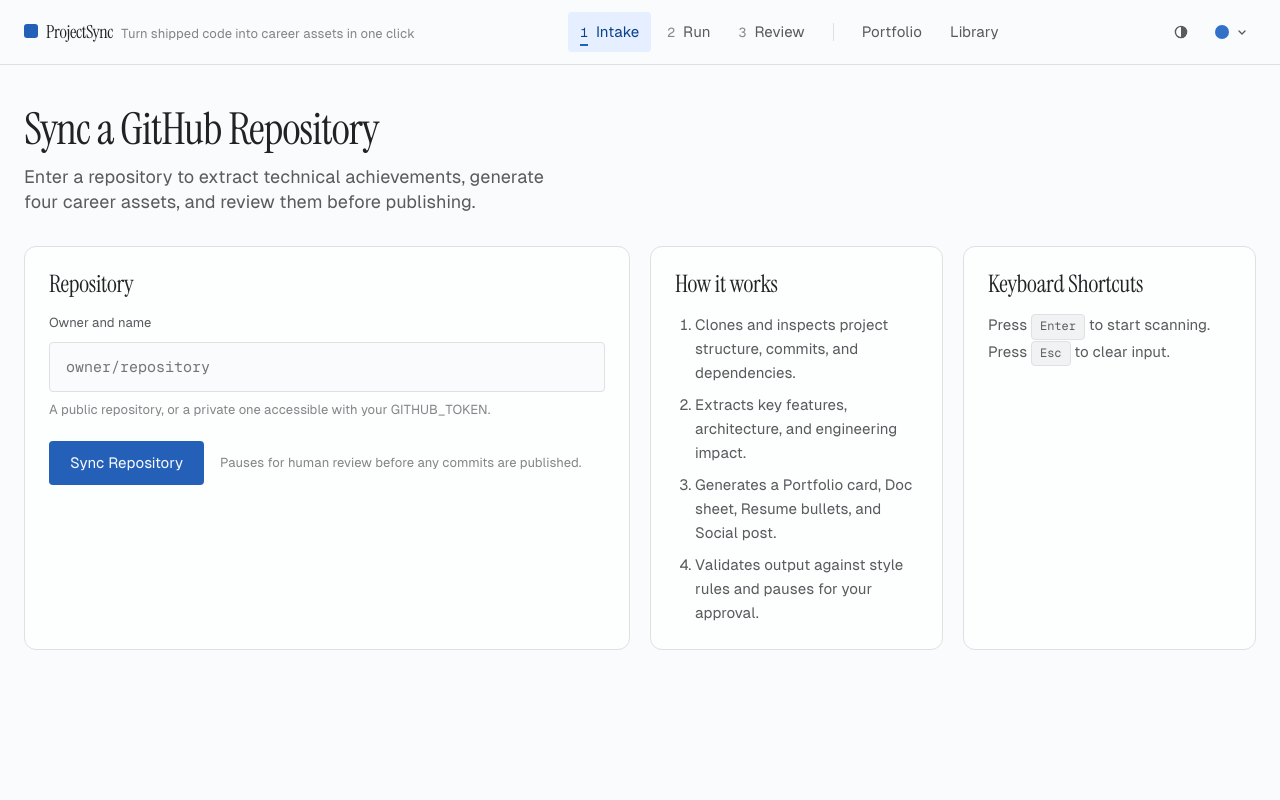
Test: opens the run screen when the service accepts a repository
In the field labelled "Owner and name": [327, 367] box top-left (49, 342), bottom-right (605, 392), type "owner/name"
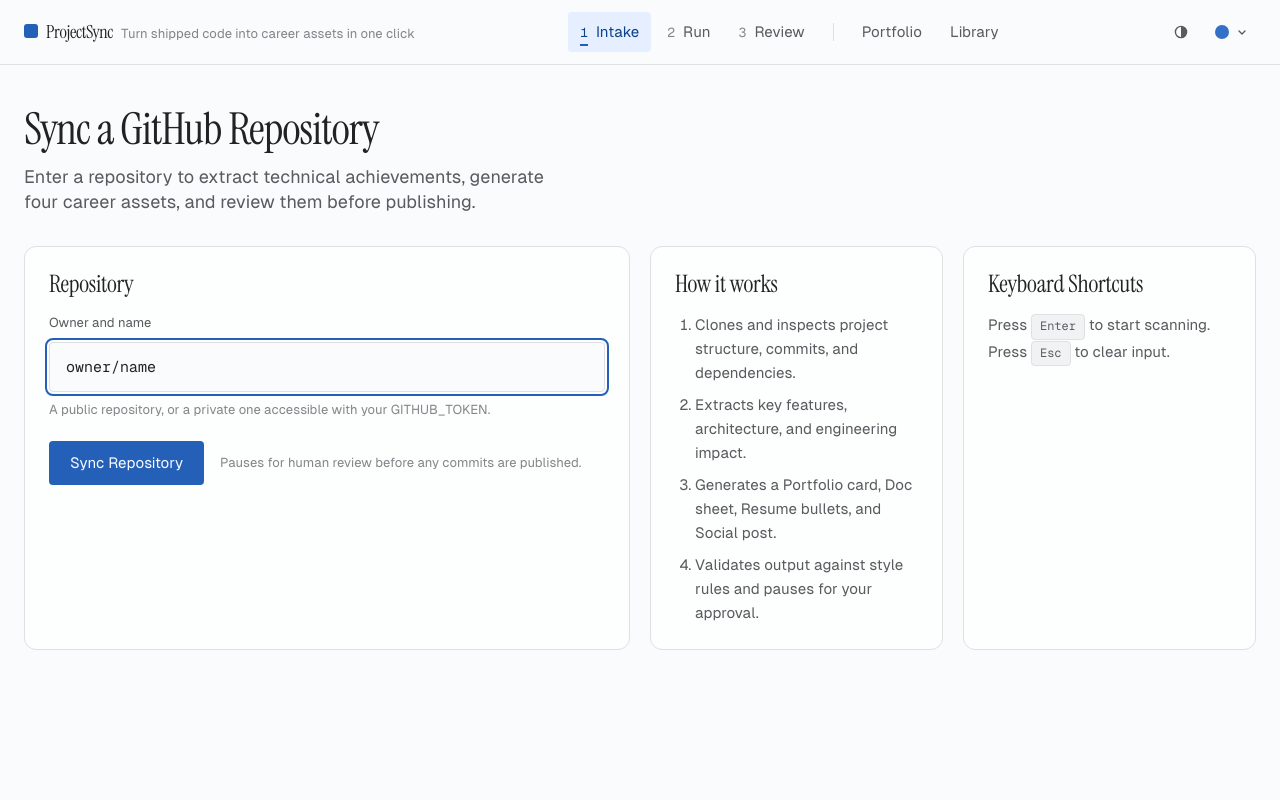
Click the button "Sync Repository": [127, 463] box top-left (49, 441), bottom-right (204, 485)
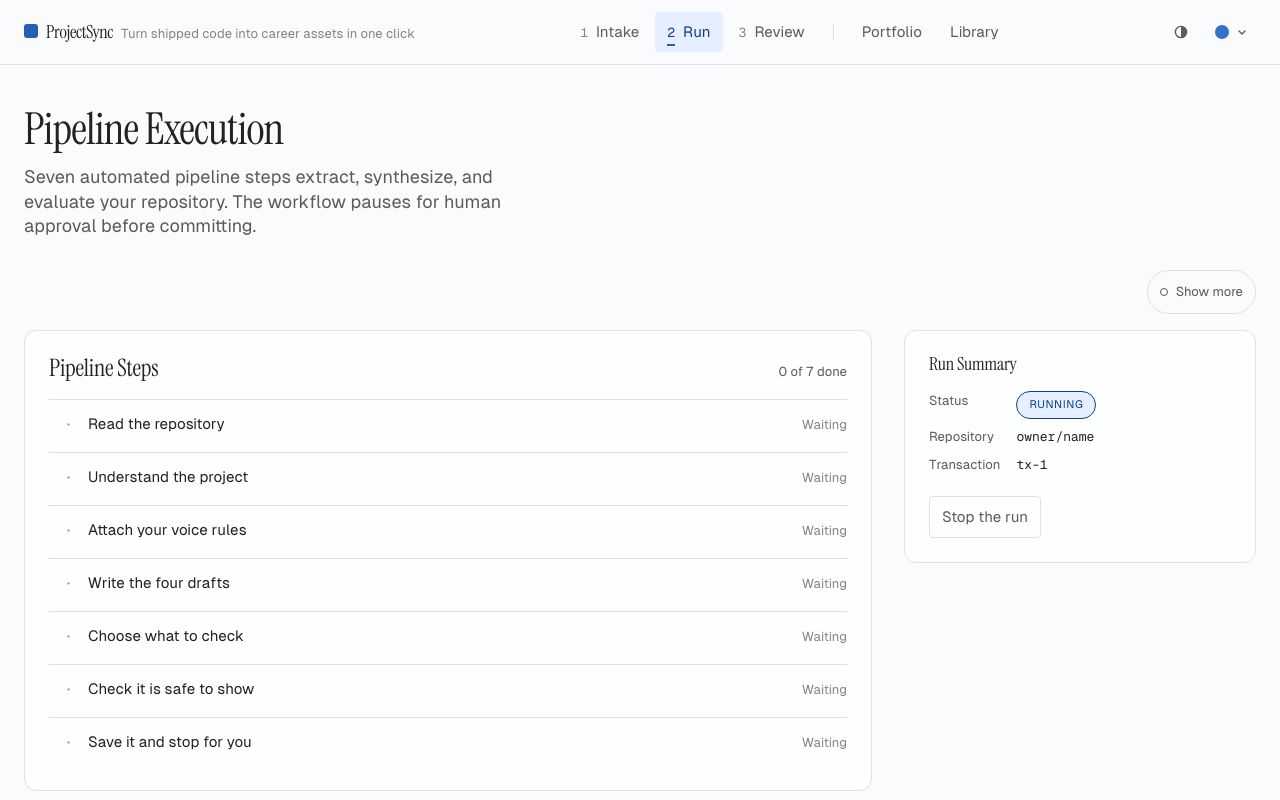
Expected: the text "tx-1" is shown, top-left (1016, 456), bottom-right (1048, 474)
Expected: the text "Running" is shown, top-left (1016, 391), bottom-right (1096, 419)
